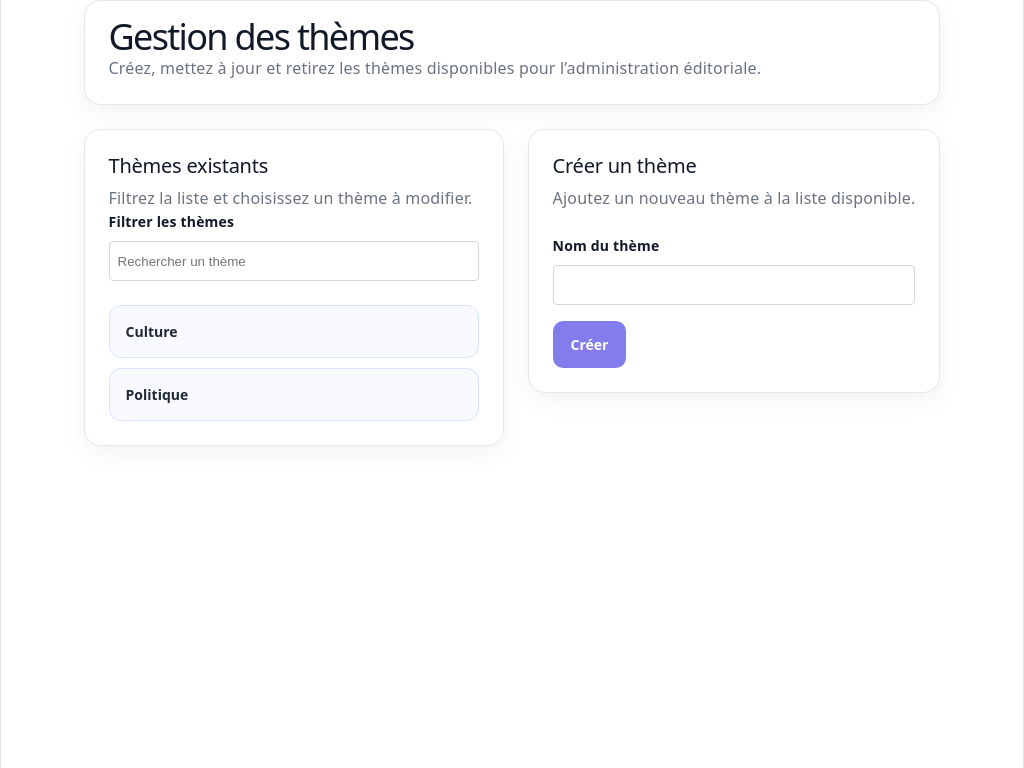
ThemeAdminPage › updates a selected theme and refreshes the list
Click the button named "Sélectionner le thème Culture": (152, 332) top-left (109, 305), bottom-right (479, 358)
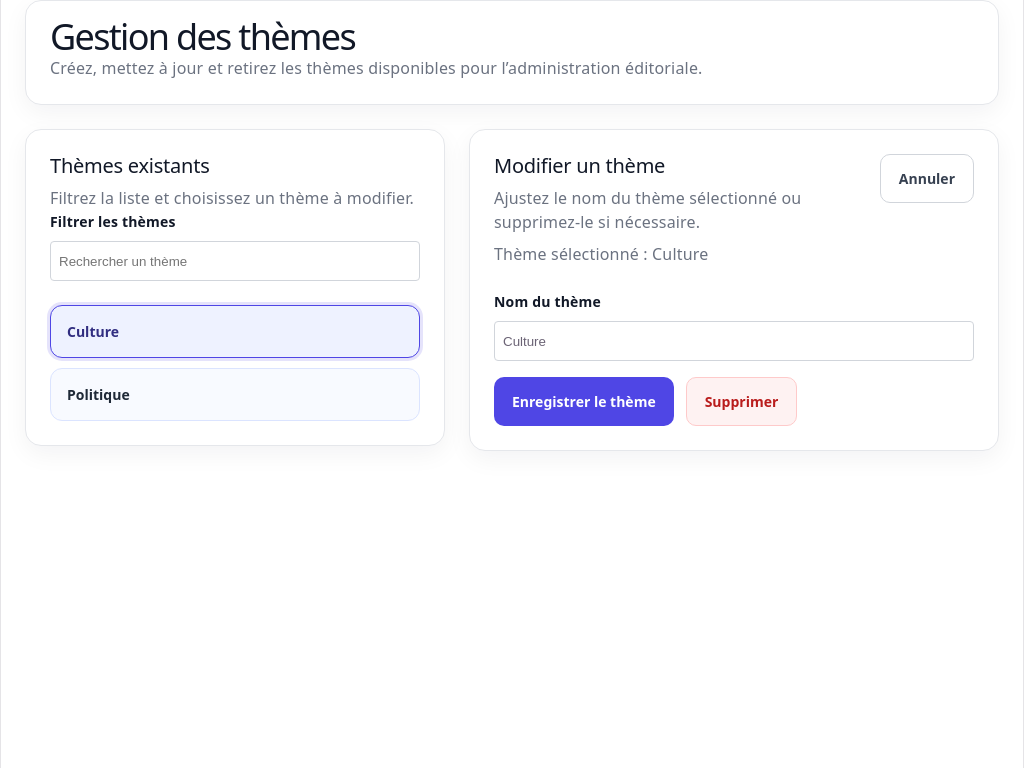
Replace the text in the field labelled "Nom du thème" with "Culture générale": (734, 341) top-left (494, 321), bottom-right (974, 361)
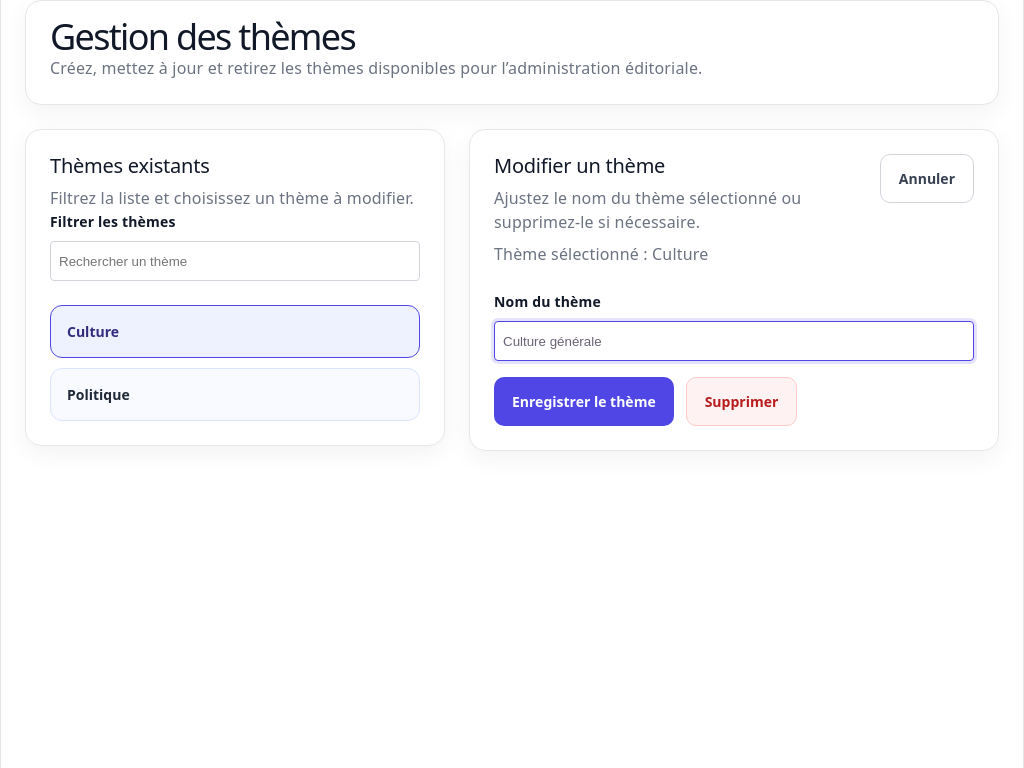
Click the button "Enregistrer le thème": (584, 402) top-left (494, 377), bottom-right (674, 426)
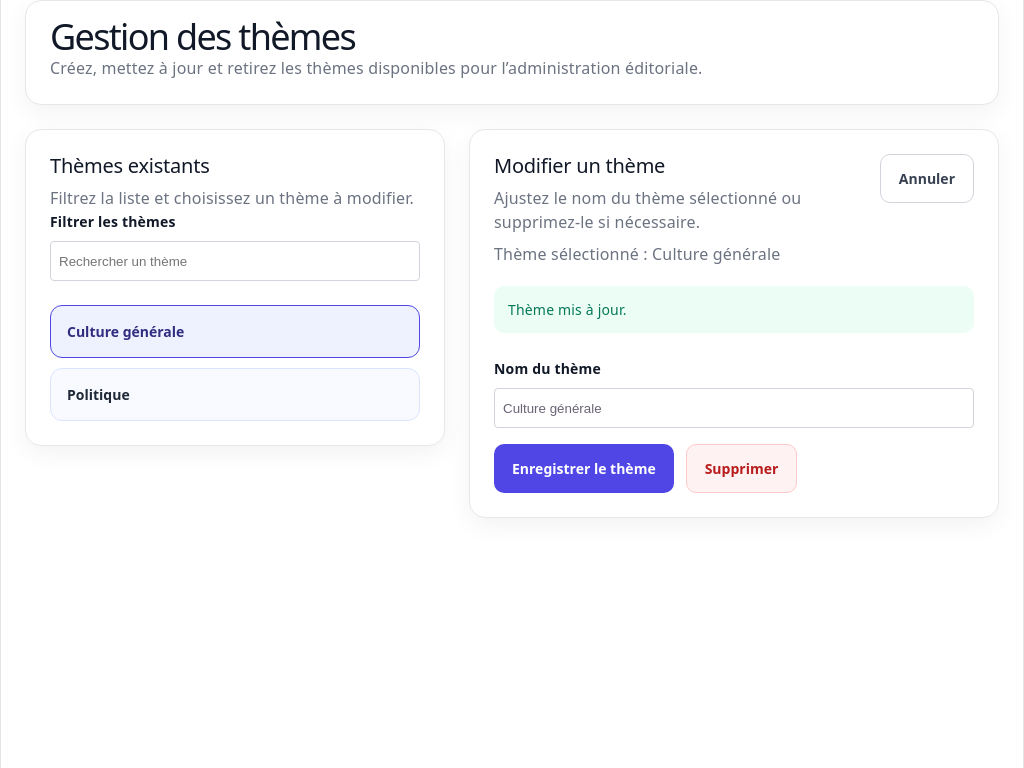
Result: the text "Thème mis à jour." is shown at top-left (494, 286), bottom-right (974, 333)
Result: the button named "Sélectionner le thème Culture générale" is shown at top-left (50, 305), bottom-right (420, 358)
